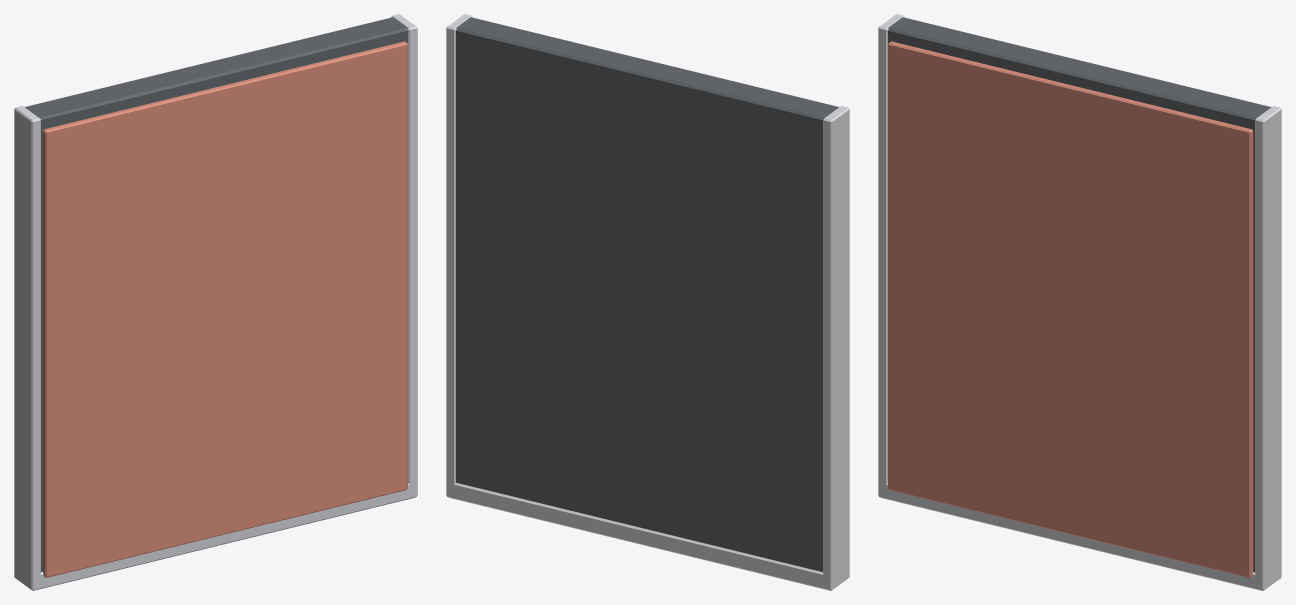
File: SM_Retail_25179_IlluminatedBackPanel.fbx
3 renders of one model, left to right at view 1: azimuth 30°, elevation 25°; view 2: azimuth 150°, elevation 25°; view 3: azimuth 330°, elevation 25°, orthographic.
Visible parts, largest first — view 1: SM_Retail_25179_IlluminatedBackPanel; view 2: SM_Retail_25179_IlluminatedBackPanel; view 3: SM_Retail_25179_IlluminatedBackPanel.
Boxes of the visible parts, x1=… form: SM_Retail_25179_IlluminatedBackPanel: x1=14, y1=14, x2=417, y2=590; SM_Retail_25179_IlluminatedBackPanel: x1=446, y1=14, x2=849, y2=590; SM_Retail_25179_IlluminatedBackPanel: x1=878, y1=14, x2=1281, y2=590.
Bounding box in the file's own units: 120 × 11 × 140.
